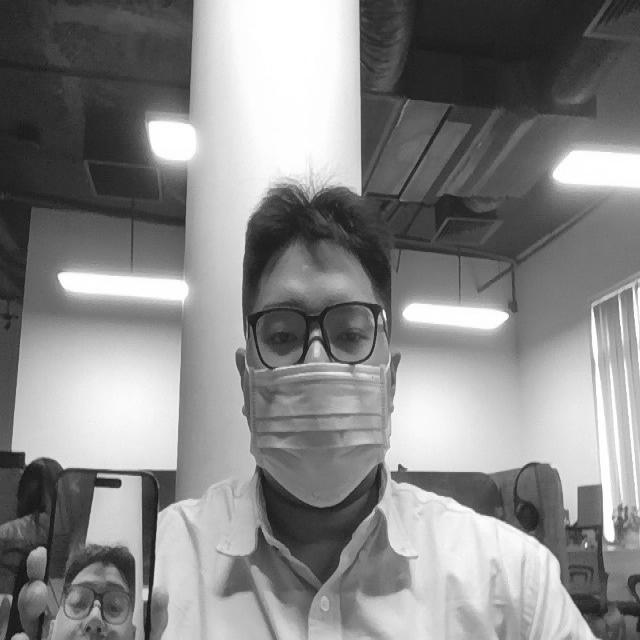fake: (36, 444, 165, 640), (246, 357, 393, 512), (49, 541, 142, 640)
real: (217, 176, 423, 539), (249, 300, 383, 360)
